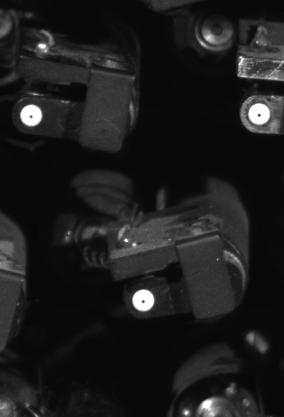fiber: (244, 98, 276, 132), (127, 285, 161, 316), (17, 102, 48, 132)
